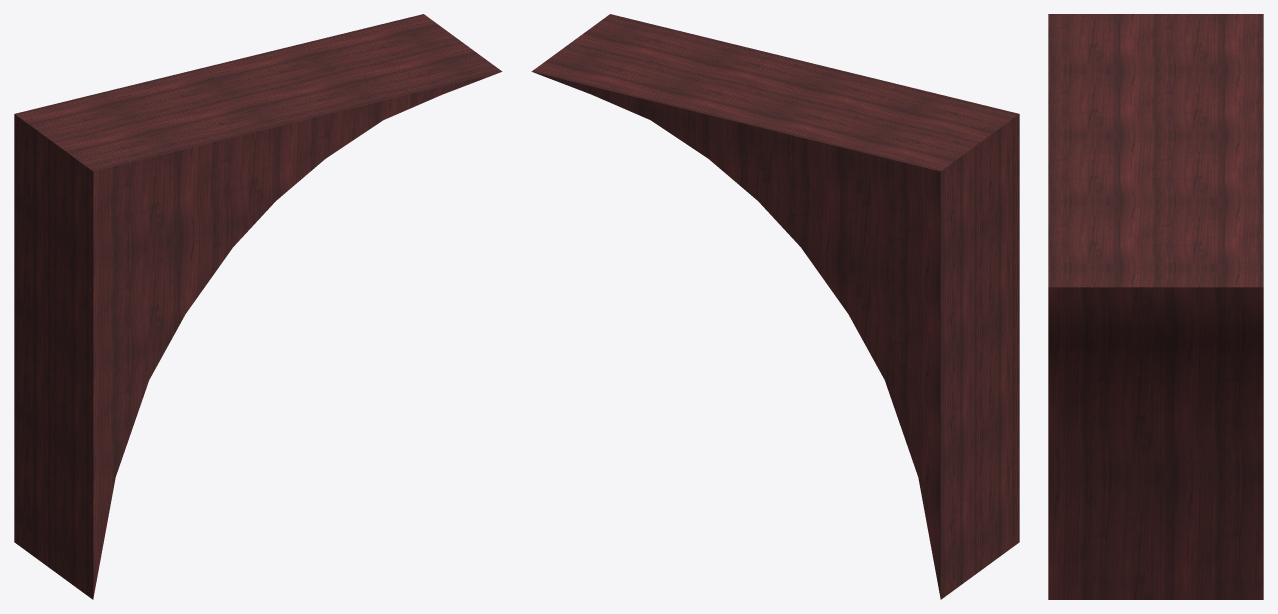
File: MediumArchV2.fbx
The picture shows the model from 3 angles, left to right: view 1: azimuth 30°, elevation 25°; view 2: azimuth 150°, elevation 25°; view 3: azimuth 270°, elevation 25°; orthographic projection. The views are drawn at different scales.
Visible parts, largest first — view 1: MediumArchV1; view 2: MediumArchV1; view 3: MediumArchV1.
Part boxes in pixels (bbox=[...]): MediumArchV1: bbox=[14, 14, 502, 599]; MediumArchV1: bbox=[531, 14, 1019, 599]; MediumArchV1: bbox=[1048, 14, 1263, 599].
Size of the model in its own units: 3 by 3 by 1.
